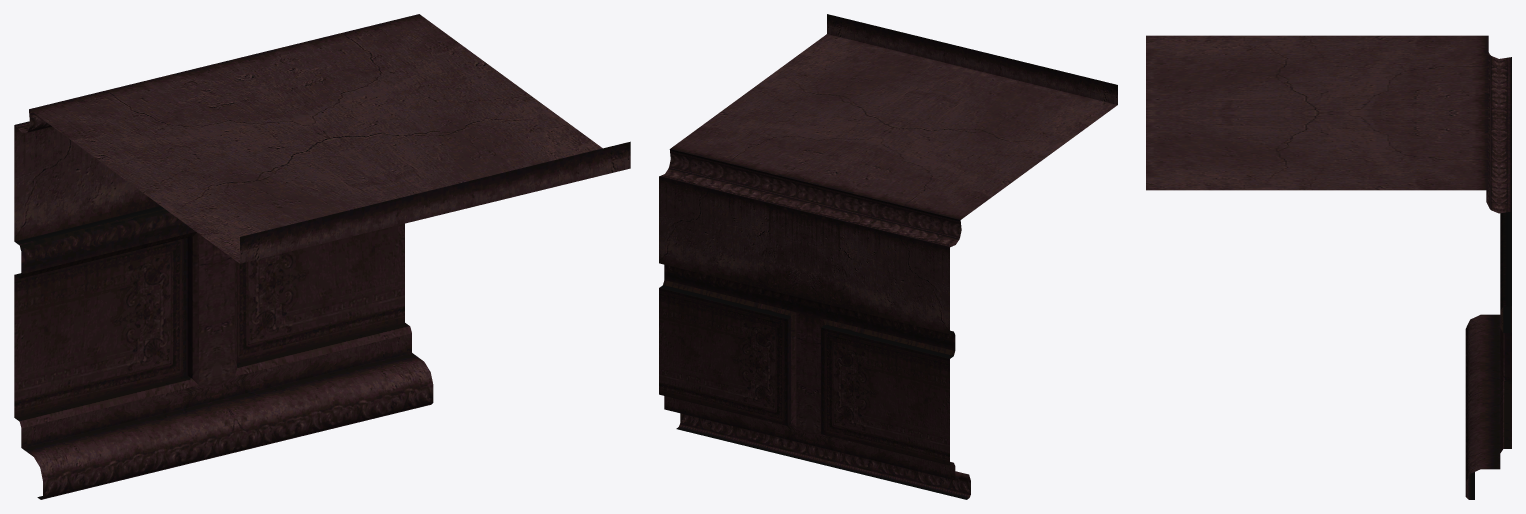
The model's file is 42_concave02_short.dae.
3 views of the same model, side by side, from view 1: azimuth 30°, elevation 25°; view 2: azimuth 150°, elevation 25°; view 3: azimuth 270°, elevation 25° (orthographic). The views are drawn at different scales.
Visible parts, largest first — view 1: concave_short; view 2: concave_short; view 3: concave_short.
Part boxes in pixels (x1,y1,x2,y2): concave_short: [14, 14, 630, 499]; concave_short: [659, 14, 1117, 499]; concave_short: [1146, 35, 1511, 499].
Bounding box in the file's own units: 2 × 2 × 2.
Materials: 1 (1 with a texture image).
